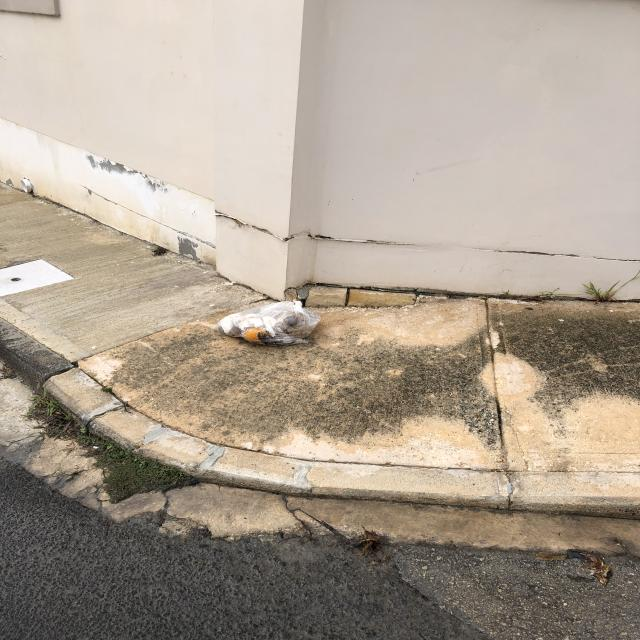Organic Waste -White Bag-: (217, 301, 322, 348)
